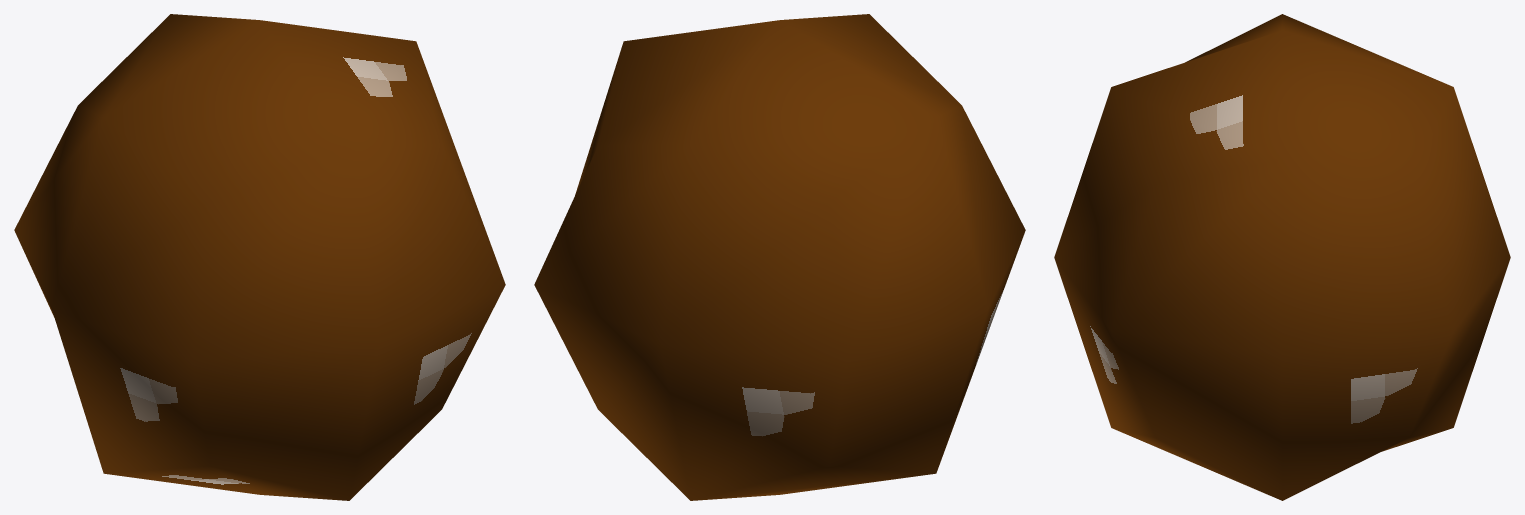
File: rinngo_3.fbx
3 renders of one model, left to right at view 1: azimuth 30°, elevation 25°; view 2: azimuth 150°, elevation 25°; view 3: azimuth 270°, elevation 25°, orthographic. The views are drawn at different scales.
Visible parts, largest first — view 1: Box001; view 2: Box001; view 3: Box001.
Part boxes in pixels (x1=…): Box001: x1=14, y1=14, x2=505, y2=500; Box001: x1=534, y1=14, x2=1025, y2=500; Box001: x1=1054, y1=14, x2=1510, y2=500.
Size of the model in its own units: 65.6 by 64.99 by 71.39.
1 material, 1 textured.
